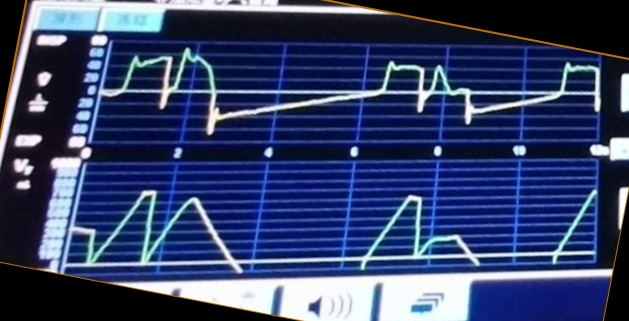Double_Triggering Flow: (111, 41, 601, 138)
Double_Triggering Volume: (75, 177, 594, 270)
